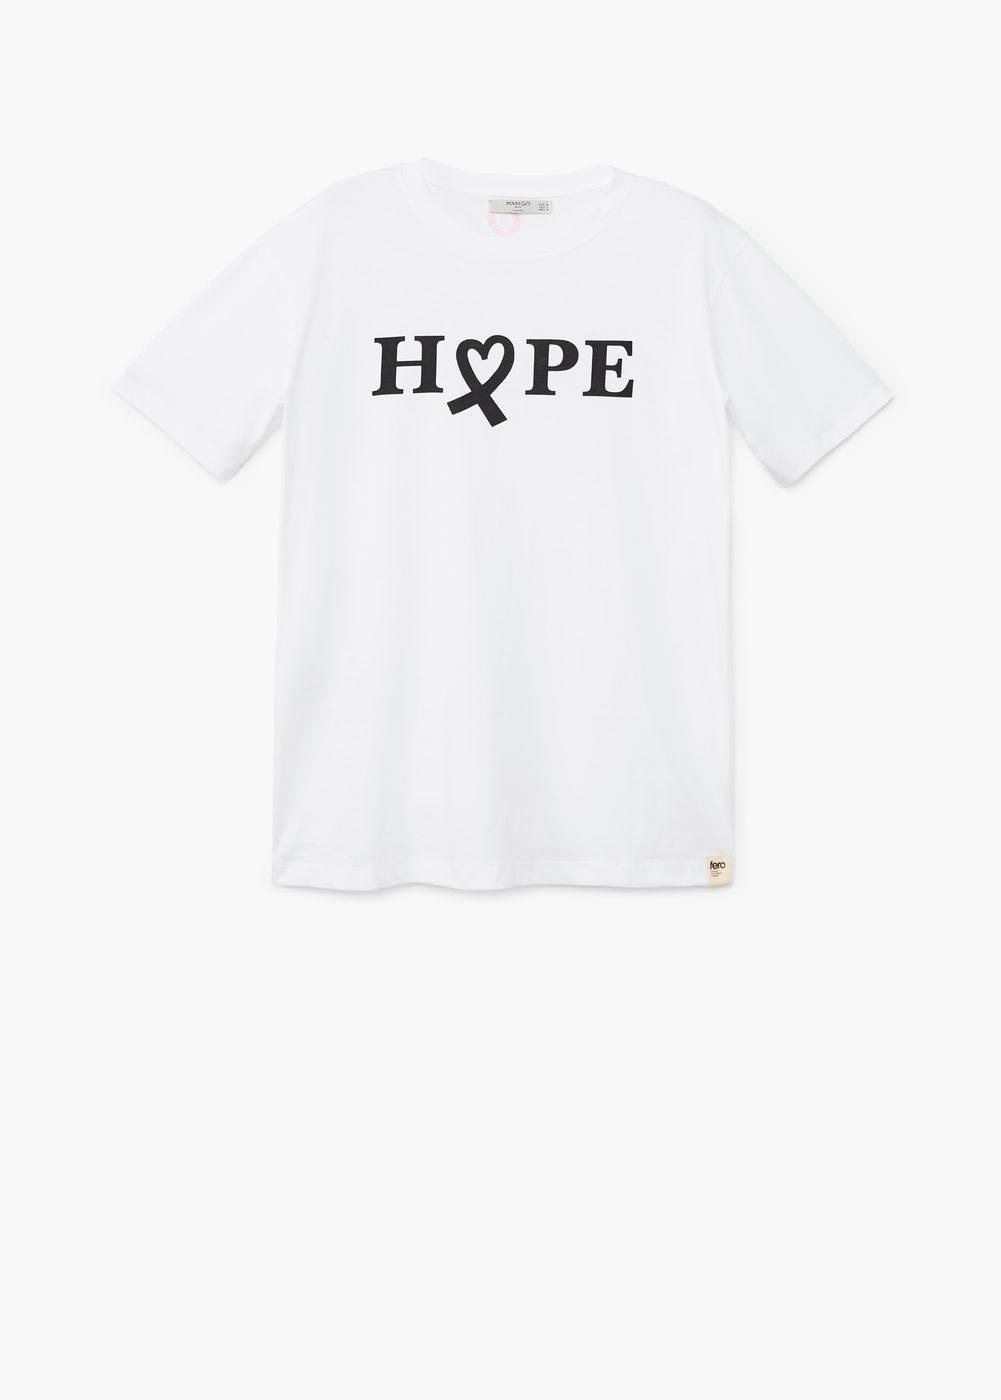teeshirt: (153, 135, 921, 980)
